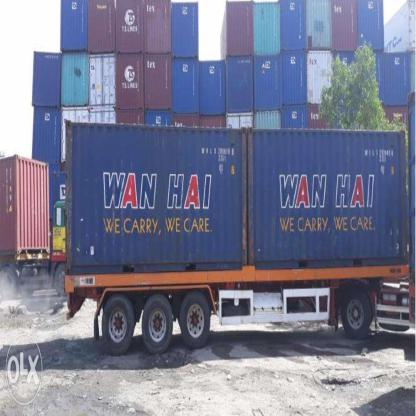Damage: (237, 131, 247, 268), (66, 136, 76, 272), (248, 121, 256, 263), (80, 232, 100, 265), (390, 229, 402, 259), (114, 228, 125, 256)
